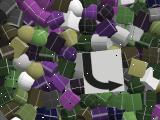Left: (82, 49, 125, 94)
